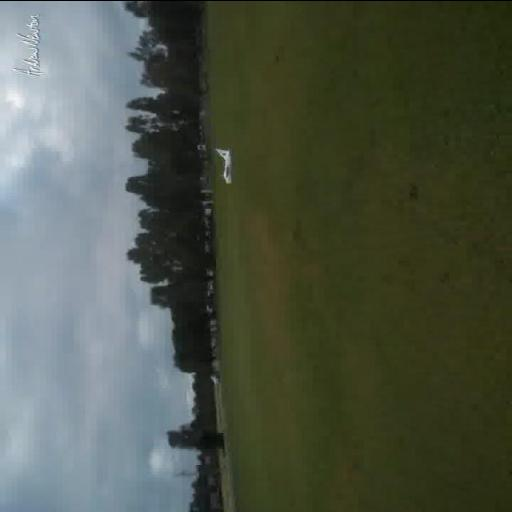uav: (212, 112, 262, 194)
